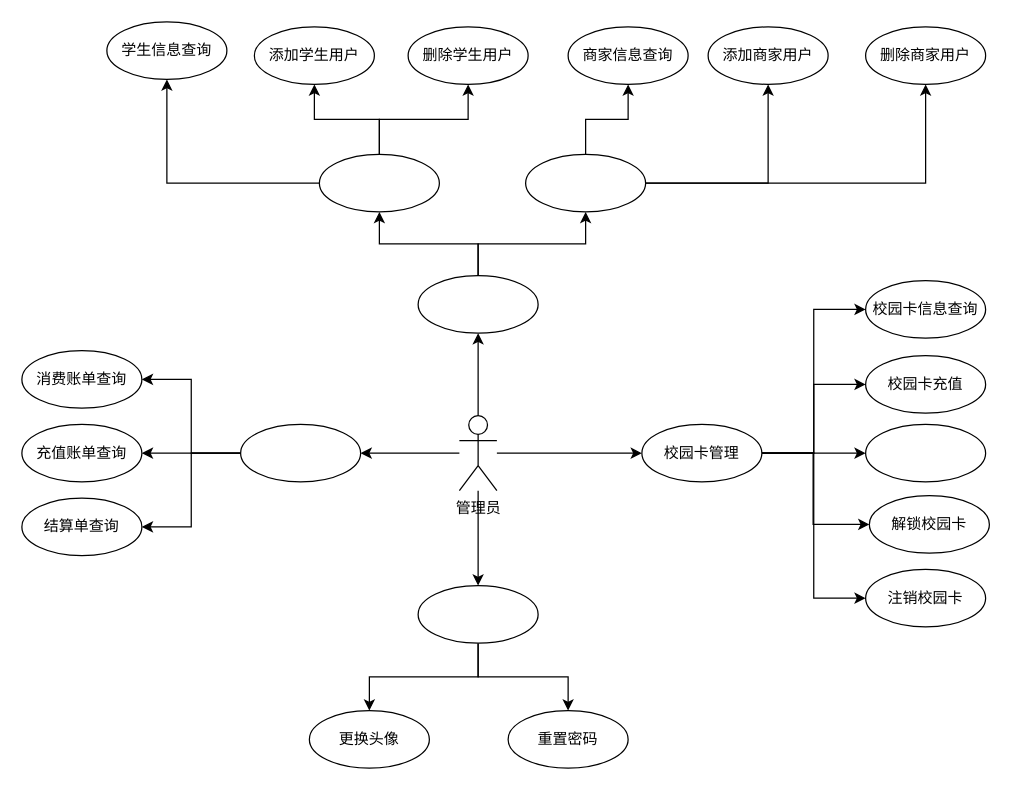
The diagram is 1011 pixels wide and 790 high, and some of its shapes have lost their labels. The box of each missing label's shape, as (x1, y1, x2, y2) in pixels:
个人中心: (417, 584, 538, 643)
商家管理: (524, 153, 646, 212)
学生管理: (318, 153, 439, 212)
挂失校园卡: (864, 423, 986, 482)
用户管理: (417, 274, 538, 333)
账单管理: (239, 423, 361, 482)
